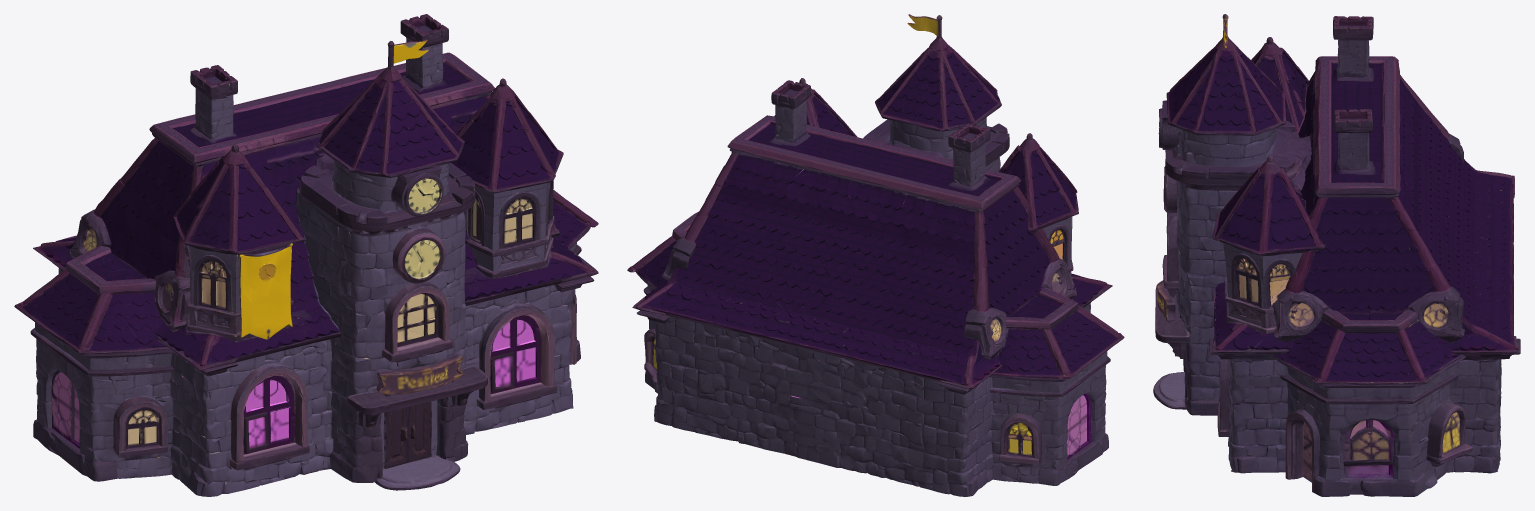
Rendered from school-hub-textured.glb.
3 views of the same model, side by side, from view 1: azimuth 30°, elevation 25°; view 2: azimuth 150°, elevation 25°; view 3: azimuth 270°, elevation 25° (orthographic). The views are drawn at different scales.
Bounding box in the file's own units: 1.9 × 1.45 × 1.28.
Materials: 1 (1 with a texture image).
